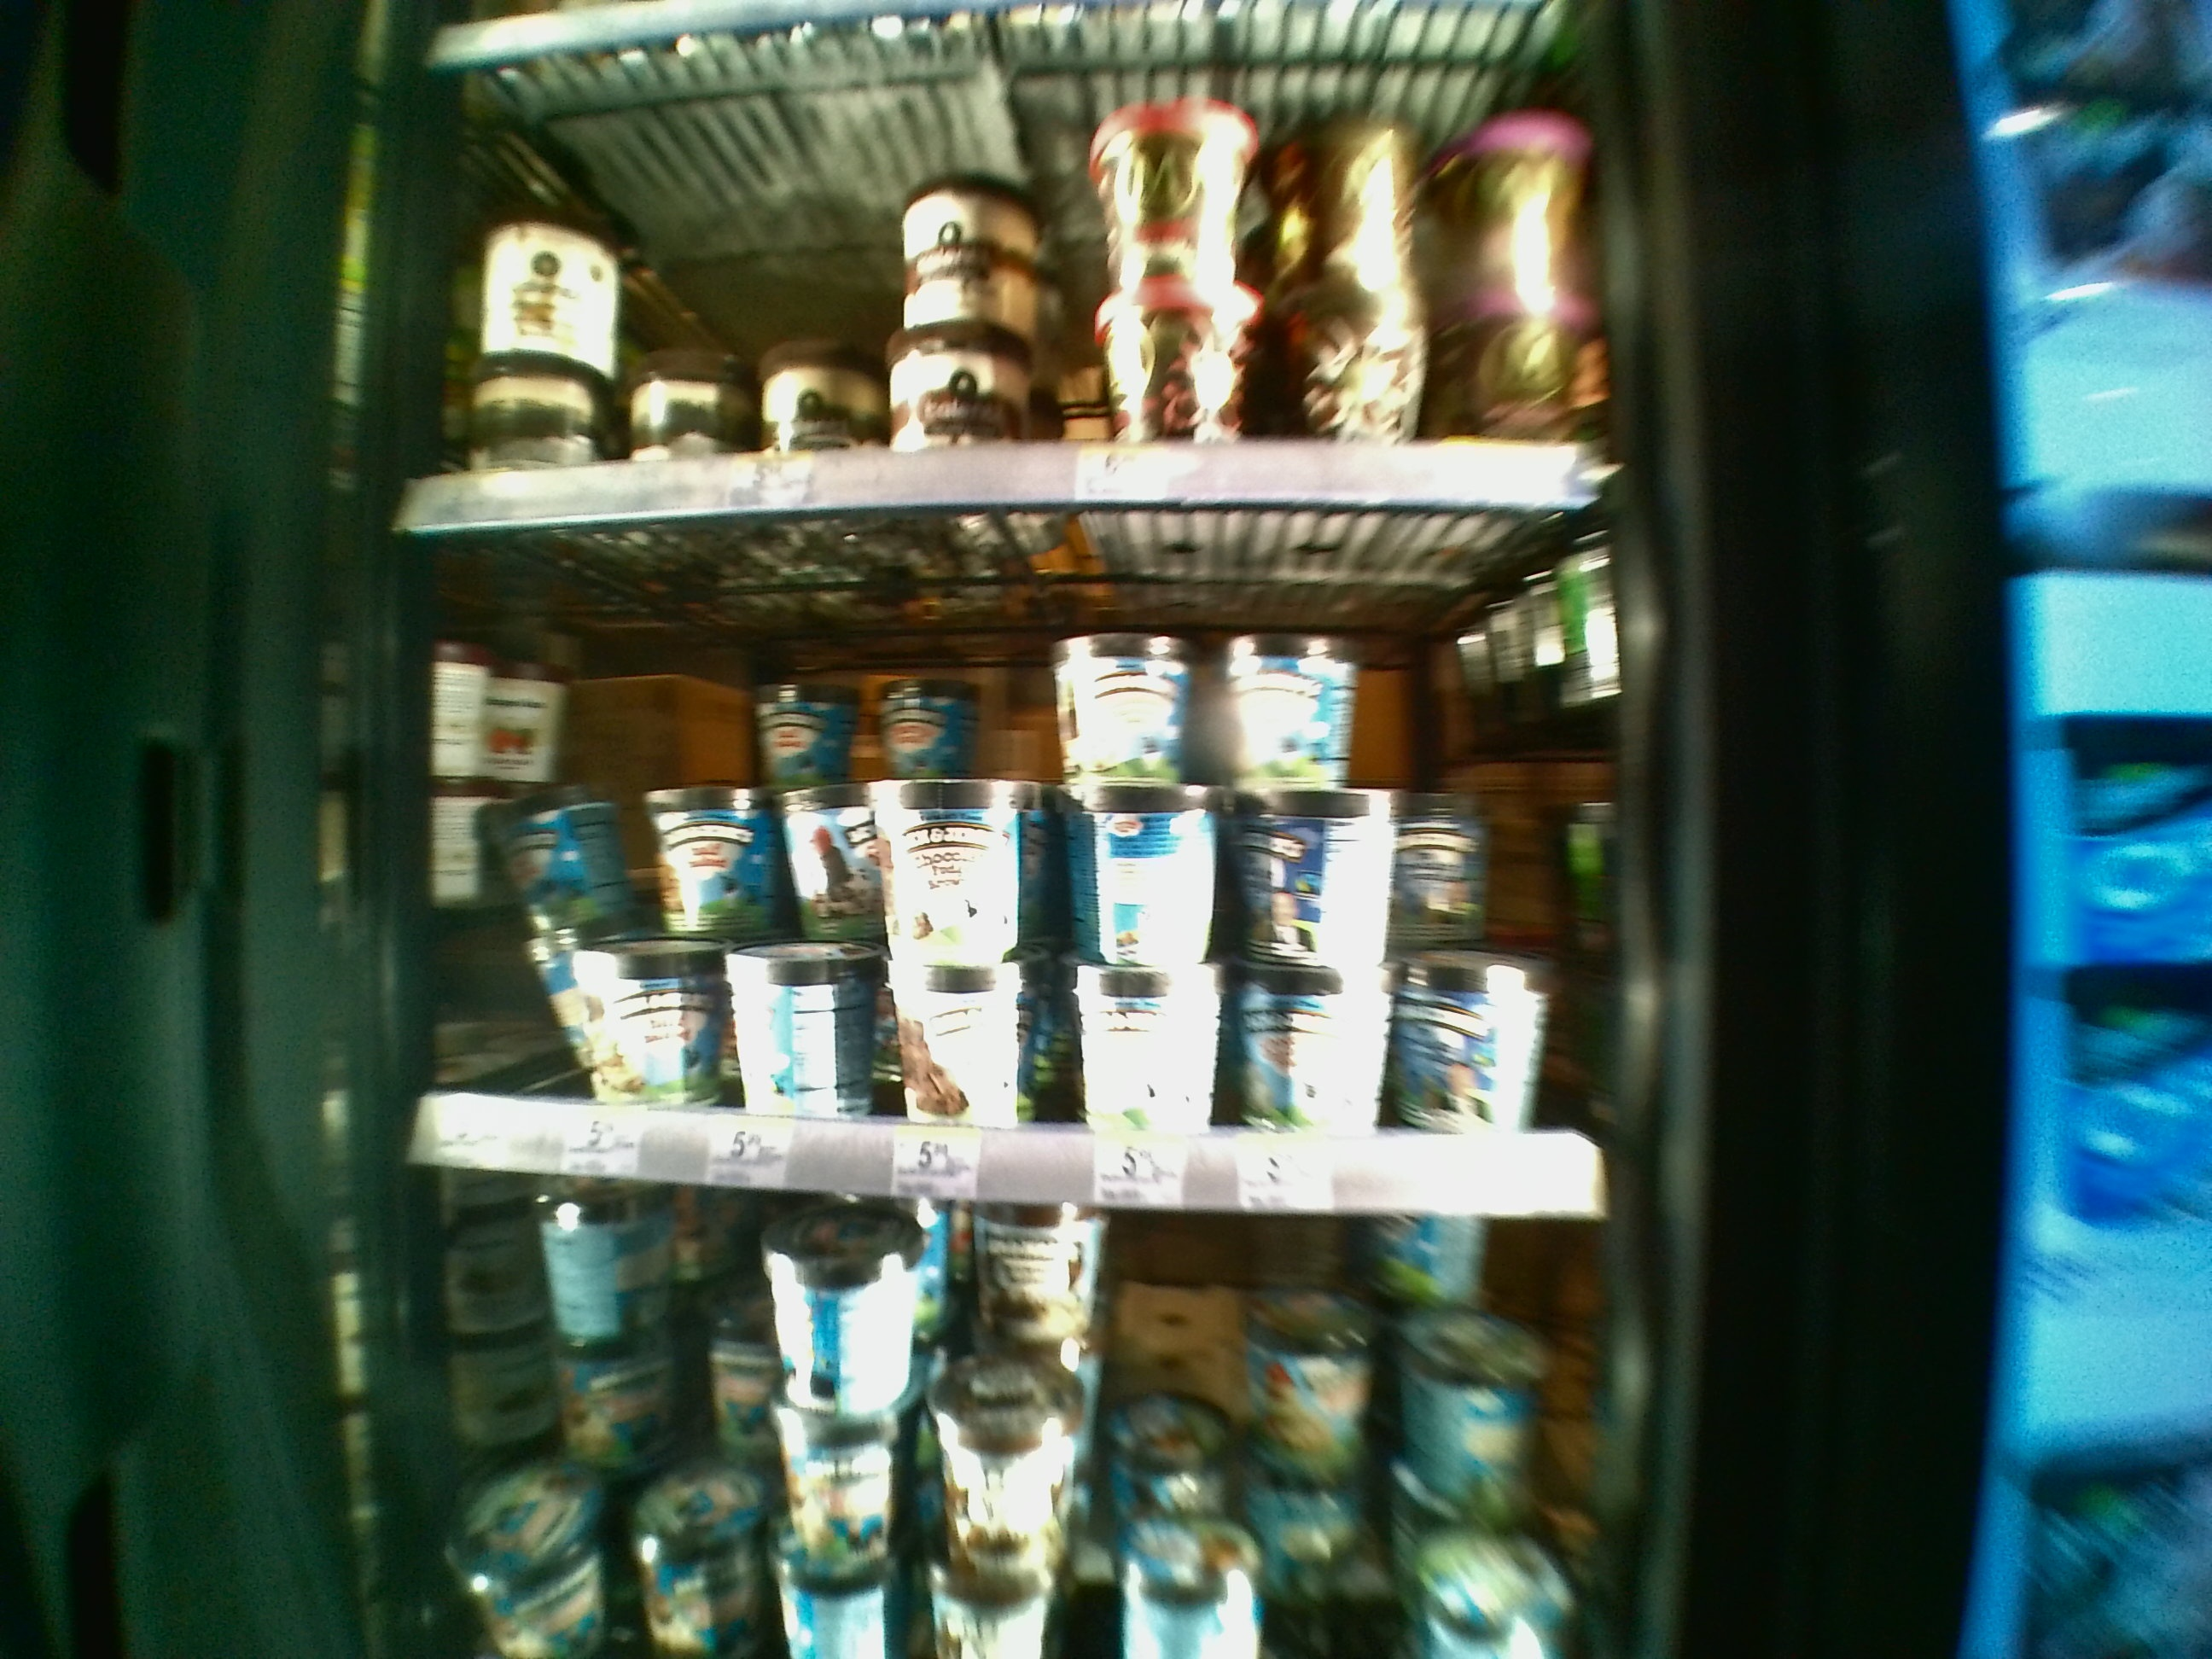shelf: (394, 507, 1616, 1230)
